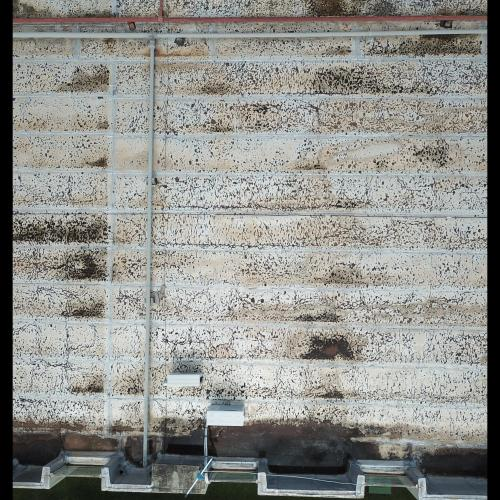conde: (206, 401, 250, 429), (163, 370, 209, 390)
